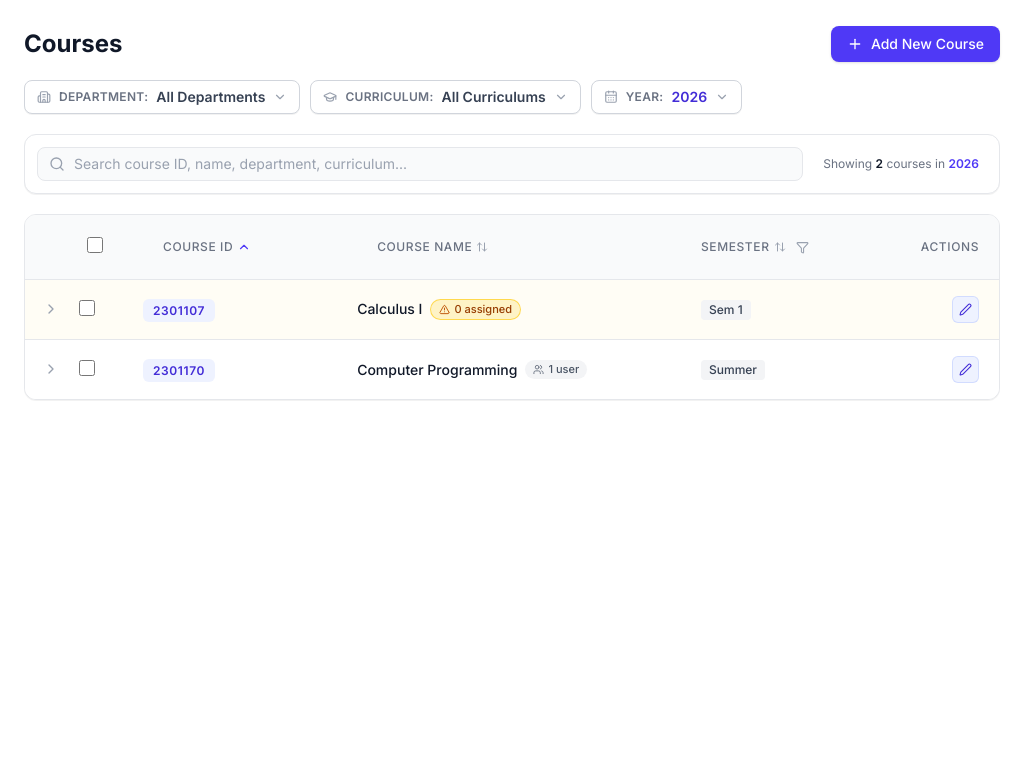
CoursesPage › warns before deleting a course that has uploads
Check: the text "Computer Programming" is shown, box [357, 360, 517, 380]
Click the checkbox named "Select 2301170": {"x": 87, "y": 368} [79, 360, 95, 376]
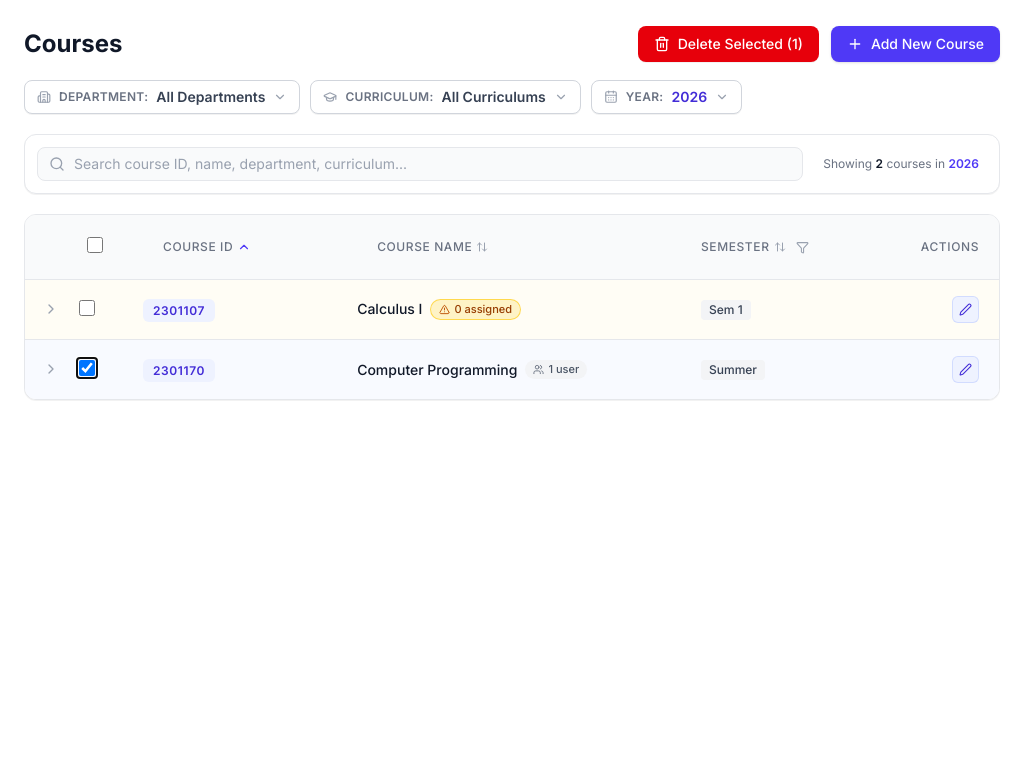
Click the button "Delete Selected (1)": {"x": 728, "y": 44} [638, 26, 819, 62]
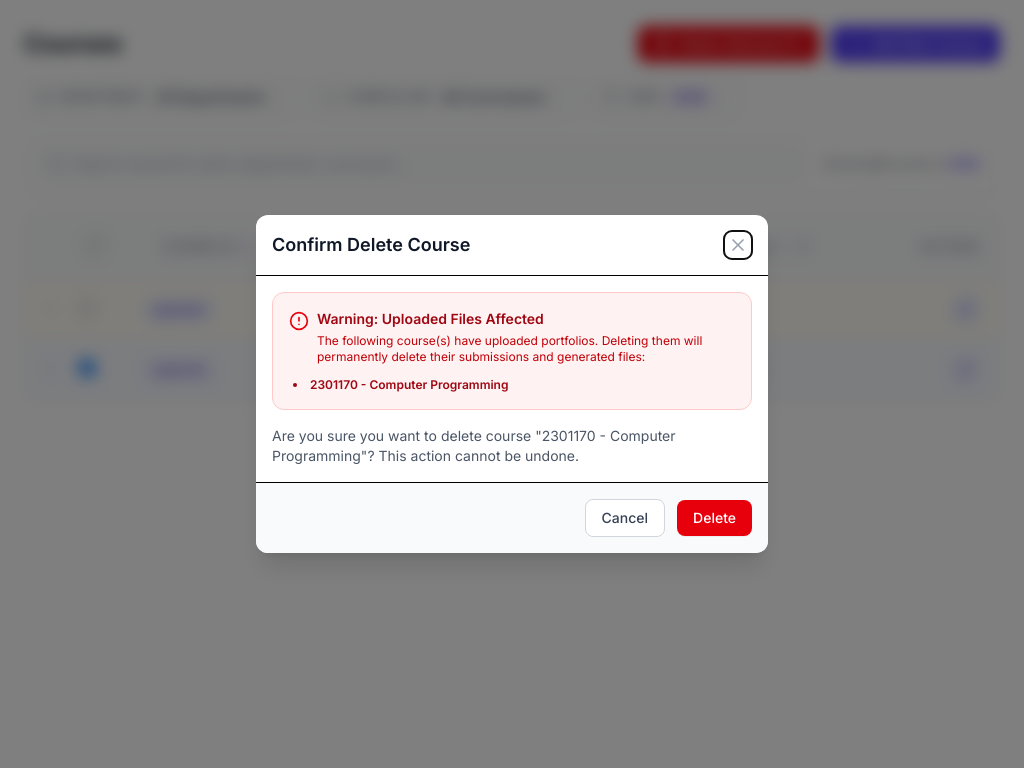
Check: the text "Warning: Uploaded Files Affected" is shown, box [317, 310, 544, 327]
Check: the list item "2301170 - Computer Programming" is shown, box [310, 377, 508, 392]
